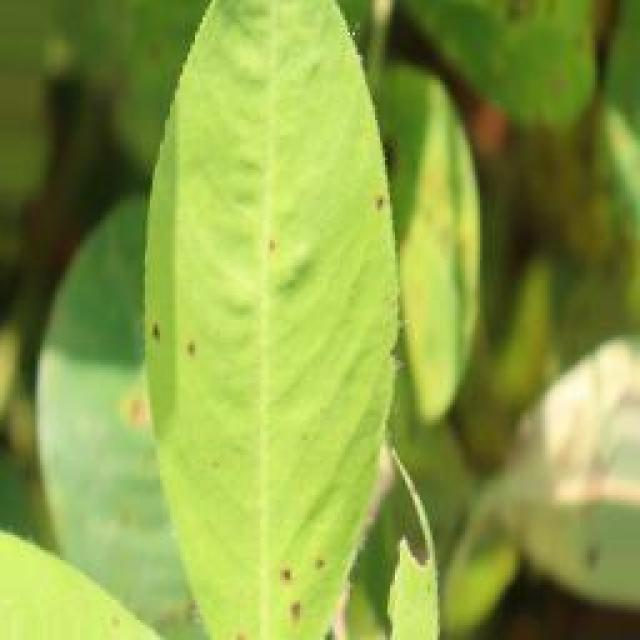Sigatoka: (257, 543, 337, 637), (144, 311, 203, 367), (249, 215, 290, 268), (363, 192, 398, 232)
